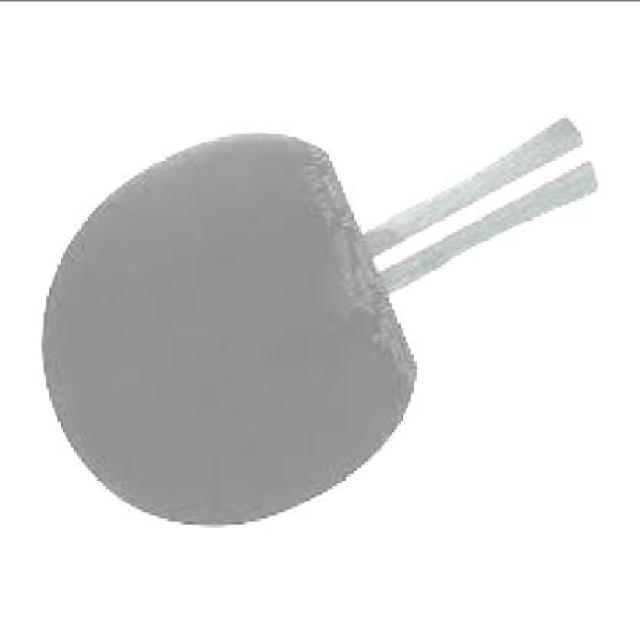table_tennis_racket: (41, 127, 422, 534)
